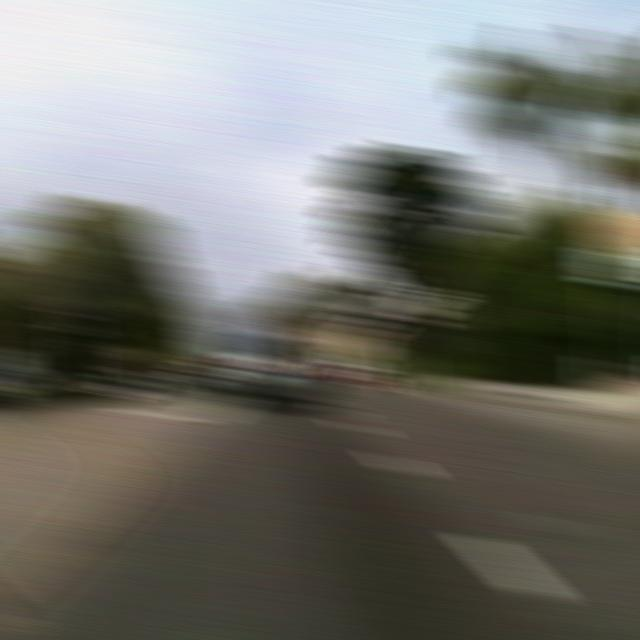speedLimit40: (587, 248, 632, 289)
